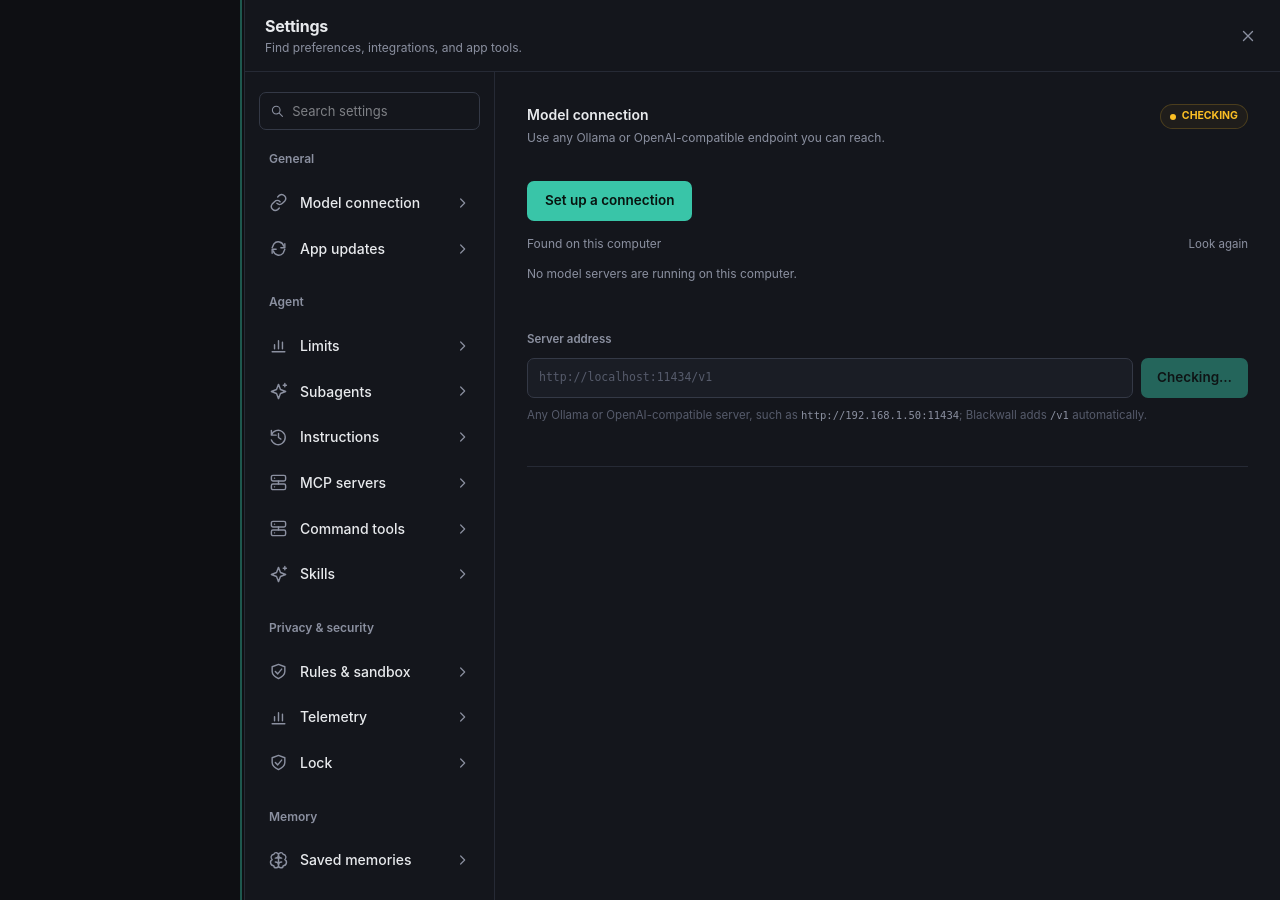
Test: SettingsDialog › places rules, telemetry, and lock under Privacy & security on desktop
Step 1. Click the button "Rules & sandbox" → {"x": 370, "y": 672}, box 259,649 -> 480,694
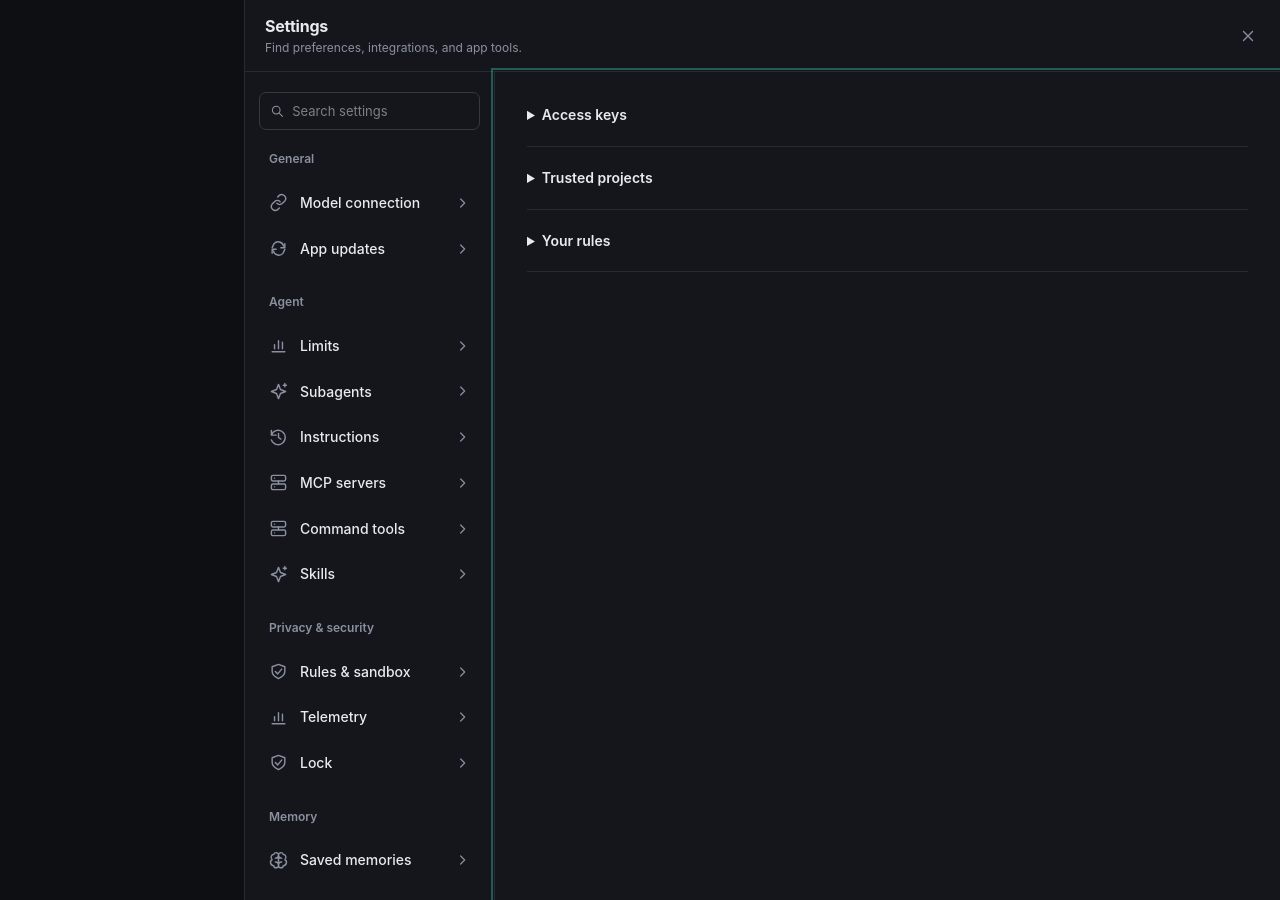
Expected: the heading "Access keys" is shown, 542,106 -> 627,123
Step 2. Click the button "Lock" → {"x": 370, "y": 763}, box 259,740 -> 480,786
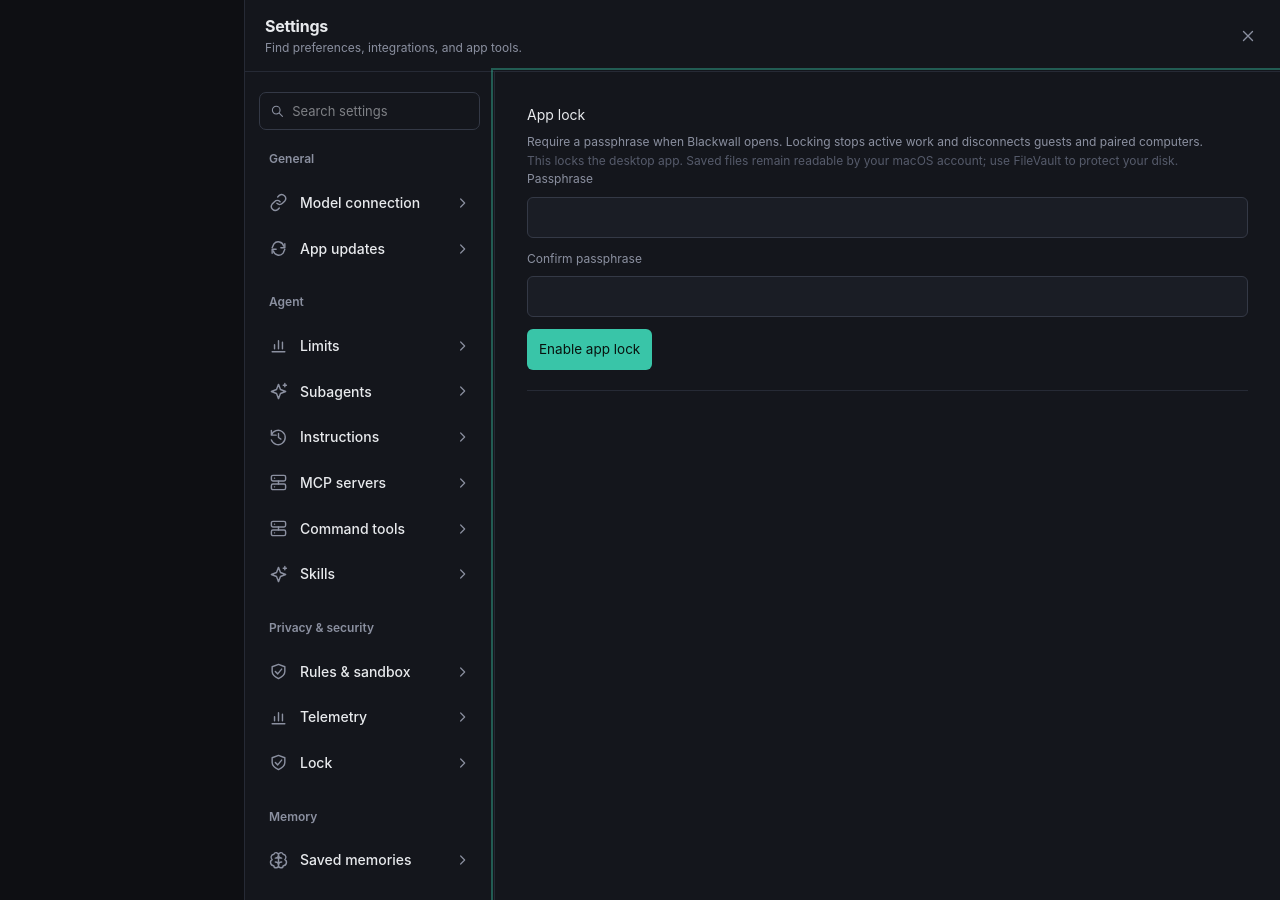
Expected: the heading "App lock" is shown, 527,106 -> 585,123
